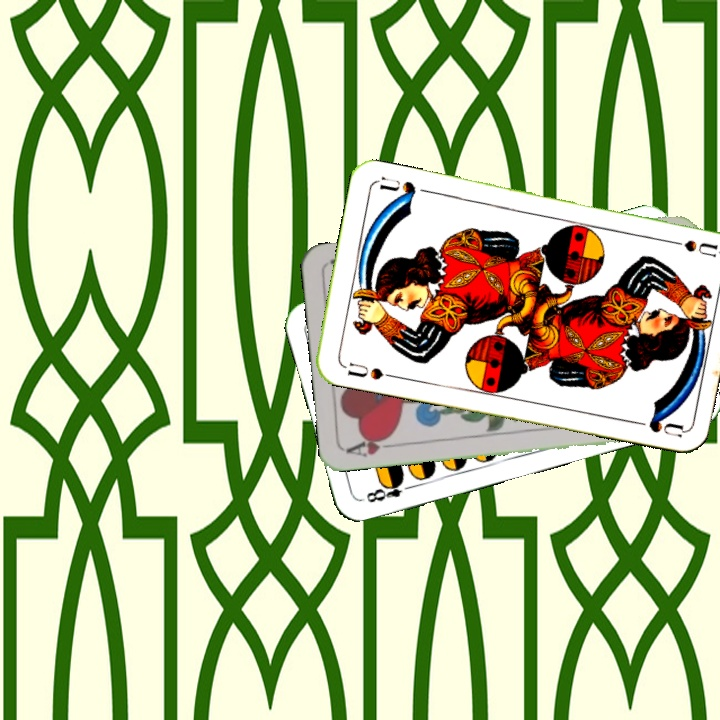E8: (362, 474, 417, 505)
HA: (343, 431, 403, 460)
SU: (659, 234, 718, 259), (343, 358, 397, 383)
